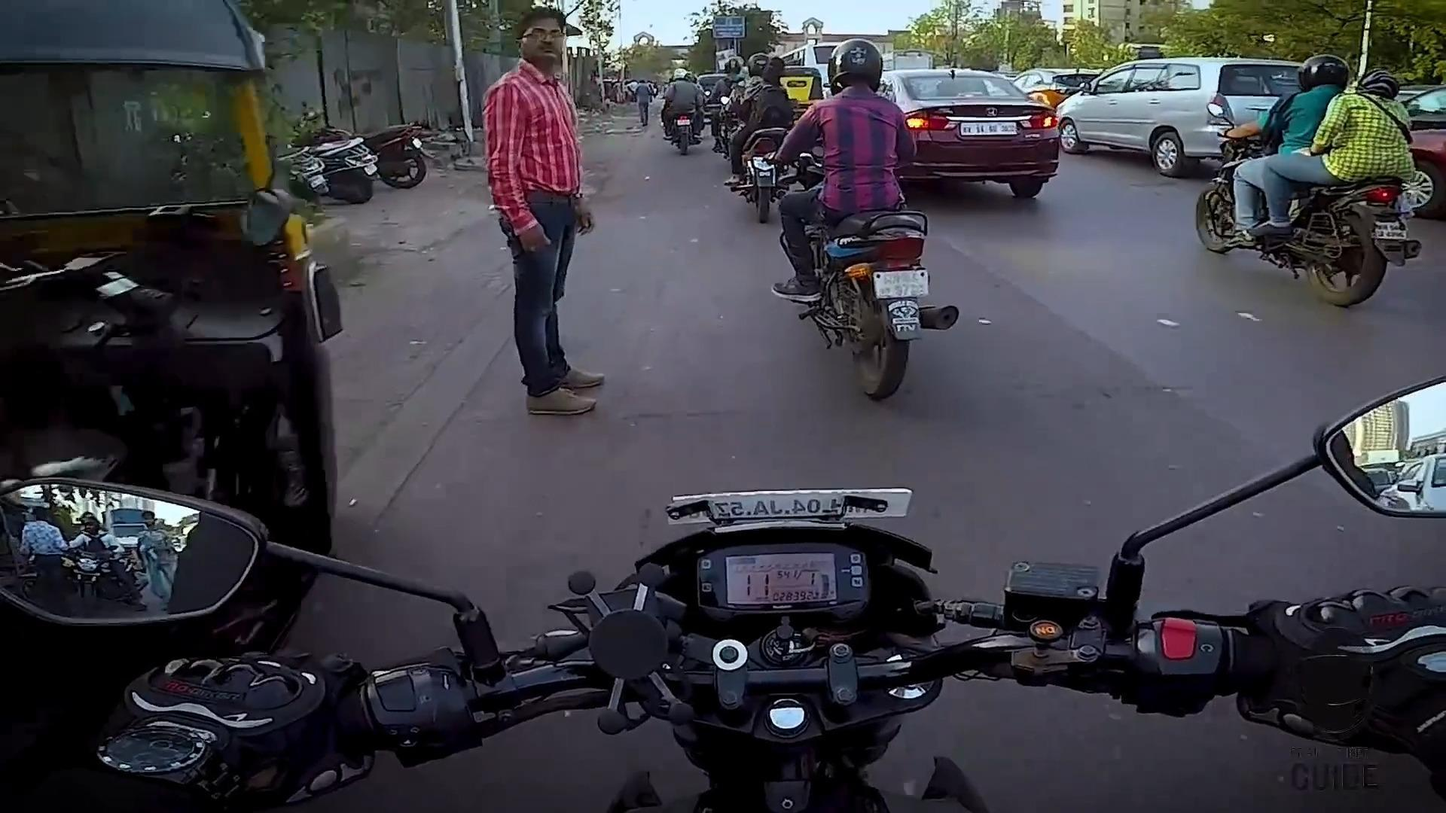Helmet: (822, 33, 893, 101), (1294, 45, 1354, 98)
bike: (764, 121, 960, 405), (1191, 97, 1422, 311), (726, 98, 792, 227)
no-helmet: (1351, 59, 1404, 106), (758, 50, 790, 87)
rider: (770, 30, 918, 301), (1264, 62, 1417, 236), (1217, 48, 1347, 243), (737, 51, 793, 184)
